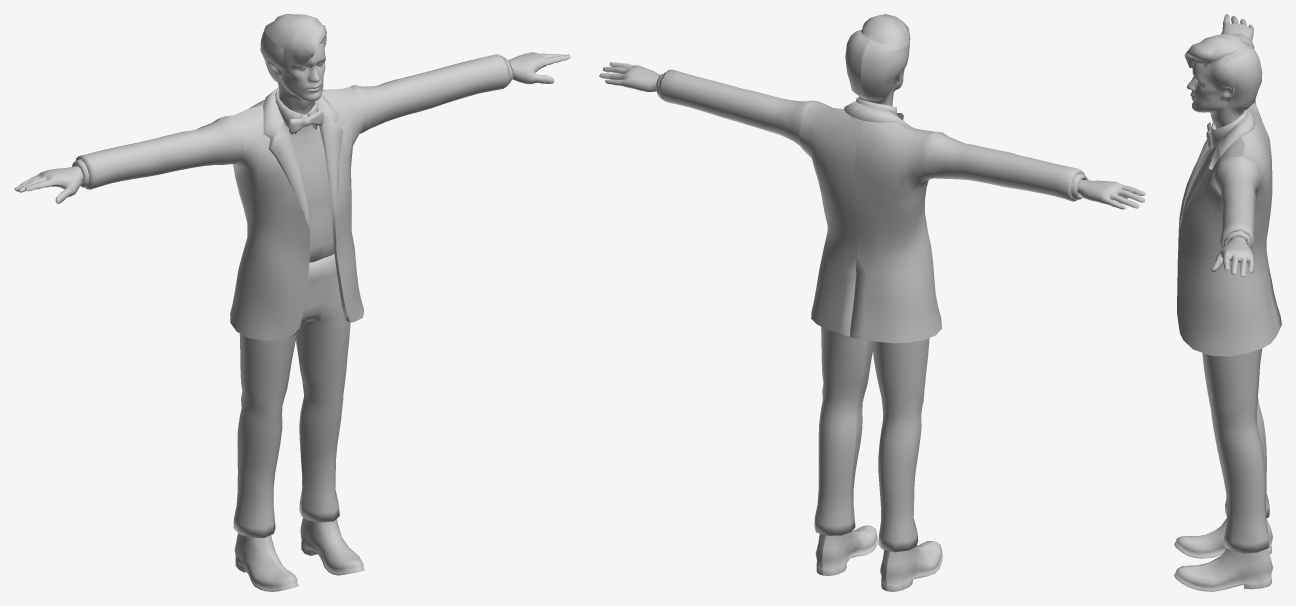
The picture shows the model from 3 angles, left to right: view 1: azimuth 30°, elevation 25°; view 2: azimuth 150°, elevation 25°; view 3: azimuth 270°, elevation 25°; orthographic projection. The views are drawn at different scales.
Parts seen in each view (by area): view 1: MVQTZWSIYATCMF8D2VQQJWZTO.011, MVQTZWSIYATCMF8D2VQQJWZTO.009, MVQTZWSIYATCMF8D2VQQJWZTO.012, MVQTZWSIYATCMF8D2VQQJWZTO.004, MVQTZWSIYATCMF8D2VQQJWZTO.001, MVQTZWSIYATCMF8D2VQQJWZTO.008; view 2: MVQTZWSIYATCMF8D2VQQJWZTO.011, MVQTZWSIYATCMF8D2VQQJWZTO.009, MVQTZWSIYATCMF8D2VQQJWZTO.012, MVQTZWSIYATCMF8D2VQQJWZTO.004, MVQTZWSIYATCMF8D2VQQJWZTO.008; view 3: MVQTZWSIYATCMF8D2VQQJWZTO.011, MVQTZWSIYATCMF8D2VQQJWZTO.009, MVQTZWSIYATCMF8D2VQQJWZTO.012, MVQTZWSIYATCMF8D2VQQJWZTO.004, MVQTZWSIYATCMF8D2VQQJWZTO.008, MVQTZWSIYATCMF8D2VQQJWZTO.001.
Part boxes in pixels (x1,y1,x2,y2): MVQTZWSIYATCMF8D2VQQJWZTO.011: (75,54,510,340); MVQTZWSIYATCMF8D2VQQJWZTO.009: (233,254,350,537); MVQTZWSIYATCMF8D2VQQJWZTO.012: (260,14,326,114); MVQTZWSIYATCMF8D2VQQJWZTO.004: (234,517,364,591); MVQTZWSIYATCMF8D2VQQJWZTO.001: (72,56,513,262); MVQTZWSIYATCMF8D2VQQJWZTO.008: (14,52,570,203); MVQTZWSIYATCMF8D2VQQJWZTO.011: (658,69,1084,343); MVQTZWSIYATCMF8D2VQQJWZTO.009: (814,326,929,552); MVQTZWSIYATCMF8D2VQQJWZTO.012: (845,14,910,106); MVQTZWSIYATCMF8D2VQQJWZTO.004: (815,525,942,591); MVQTZWSIYATCMF8D2VQQJWZTO.008: (599,62,1145,209); MVQTZWSIYATCMF8D2VQQJWZTO.011: (1177,33,1281,356); MVQTZWSIYATCMF8D2VQQJWZTO.009: (1202,349,1269,553); MVQTZWSIYATCMF8D2VQQJWZTO.012: (1184,33,1262,128); MVQTZWSIYATCMF8D2VQQJWZTO.004: (1174,518,1272,591); MVQTZWSIYATCMF8D2VQQJWZTO.008: (1211,14,1253,277); MVQTZWSIYATCMF8D2VQQJWZTO.001: (1210,110,1250,246).
Size of the model in its own units: 2.5 by 2.41 by 0.4428.
